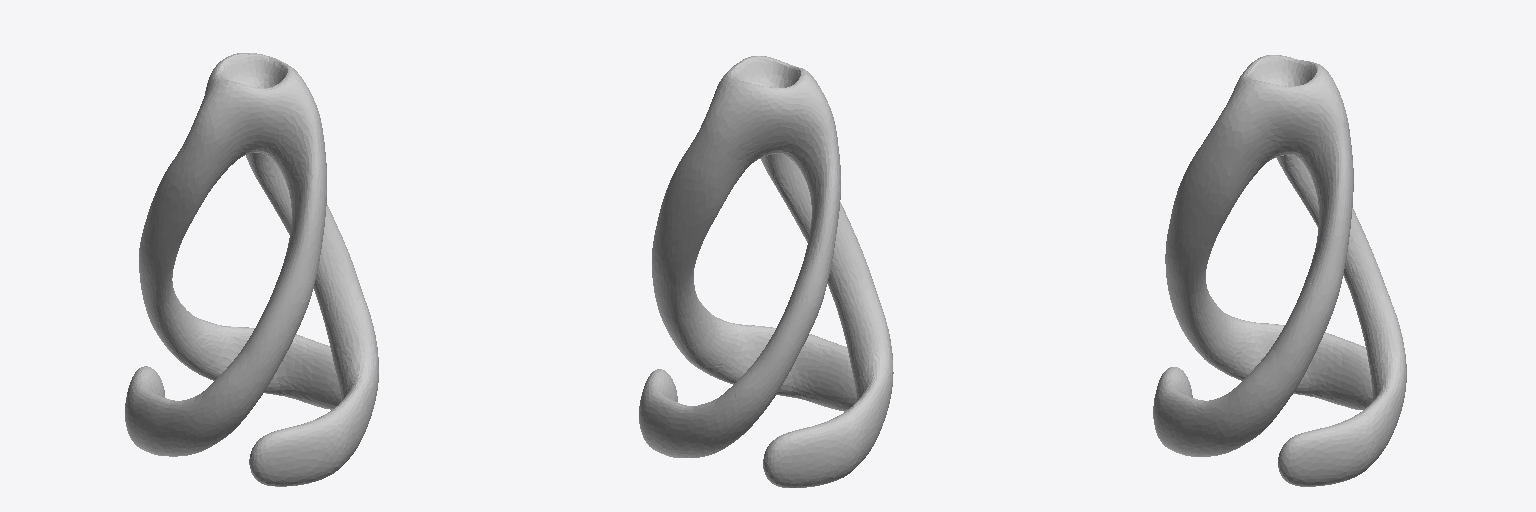
The model's file is move-simple-2.obj.
The picture shows the model from 3 angles: view 1: azimuth 30°, elevation 25°; view 2: azimuth 150°, elevation 25°; view 3: azimuth 270°, elevation 25°; orthographic projection.
Parts seen in each view (by area): view 1: Quad_Sphere; view 2: Quad_Sphere; view 3: Quad_Sphere.
Part boxes in pixels (bbox=[...]): Quad_Sphere: bbox=[125, 53, 378, 486]; Quad_Sphere: bbox=[639, 56, 893, 487]; Quad_Sphere: bbox=[1153, 55, 1406, 486].
Bounding box in the file's own units: 3.7 × 6.01 × 3.69.